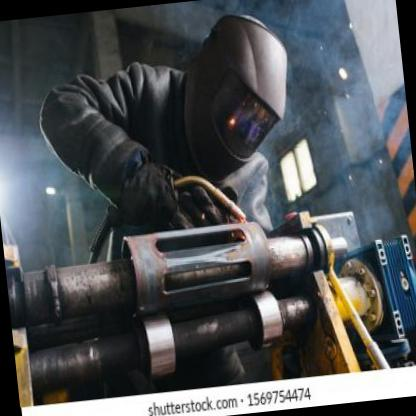Gloves: (111, 156, 179, 226), (167, 182, 229, 230)
